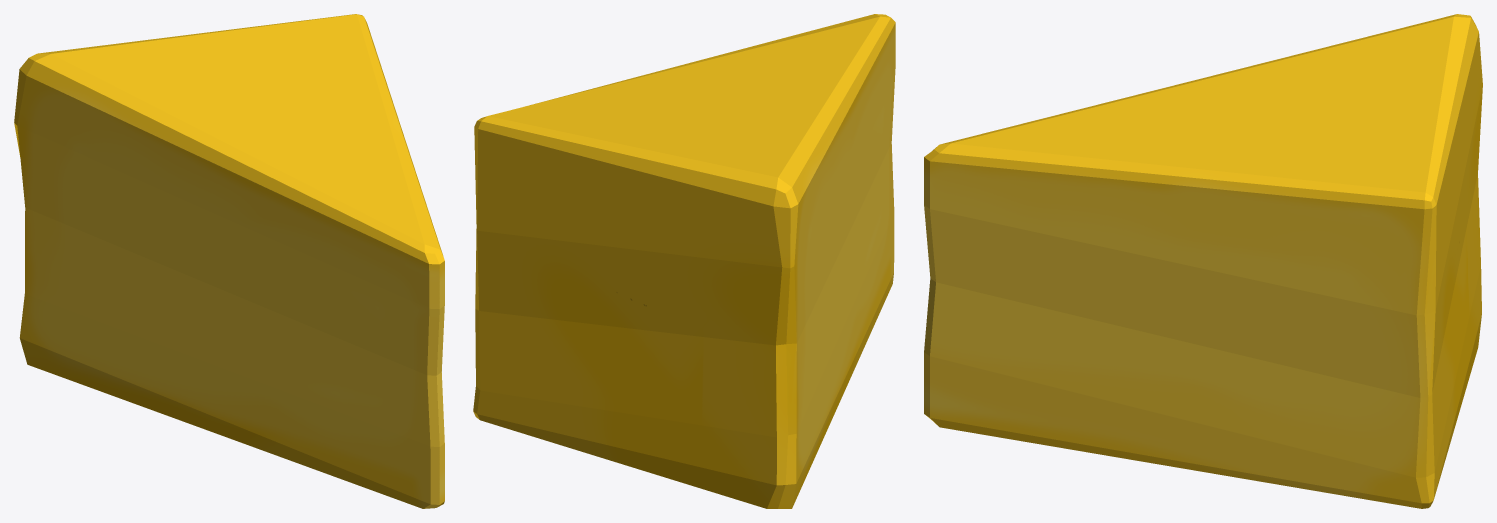
The model's file is Cheese.fbx.
3 renders of one model, left to right at view 1: azimuth 30°, elevation 25°; view 2: azimuth 150°, elevation 25°; view 3: azimuth 270°, elevation 25°, orthographic. The views are drawn at different scales.
Visible parts, largest first — view 1: Cheese LowPoly; view 2: Cheese LowPoly; view 3: Cheese LowPoly.
Boxes of the visible parts, left/top/right/bottom form: Cheese LowPoly: left=14, top=14, right=444, bottom=508; Cheese LowPoly: left=473, top=14, right=895, bottom=508; Cheese LowPoly: left=924, top=14, right=1482, bottom=508.
Size of the model in its own units: 22.45 by 20.57 by 30.92.
1 material, 1 textured.
